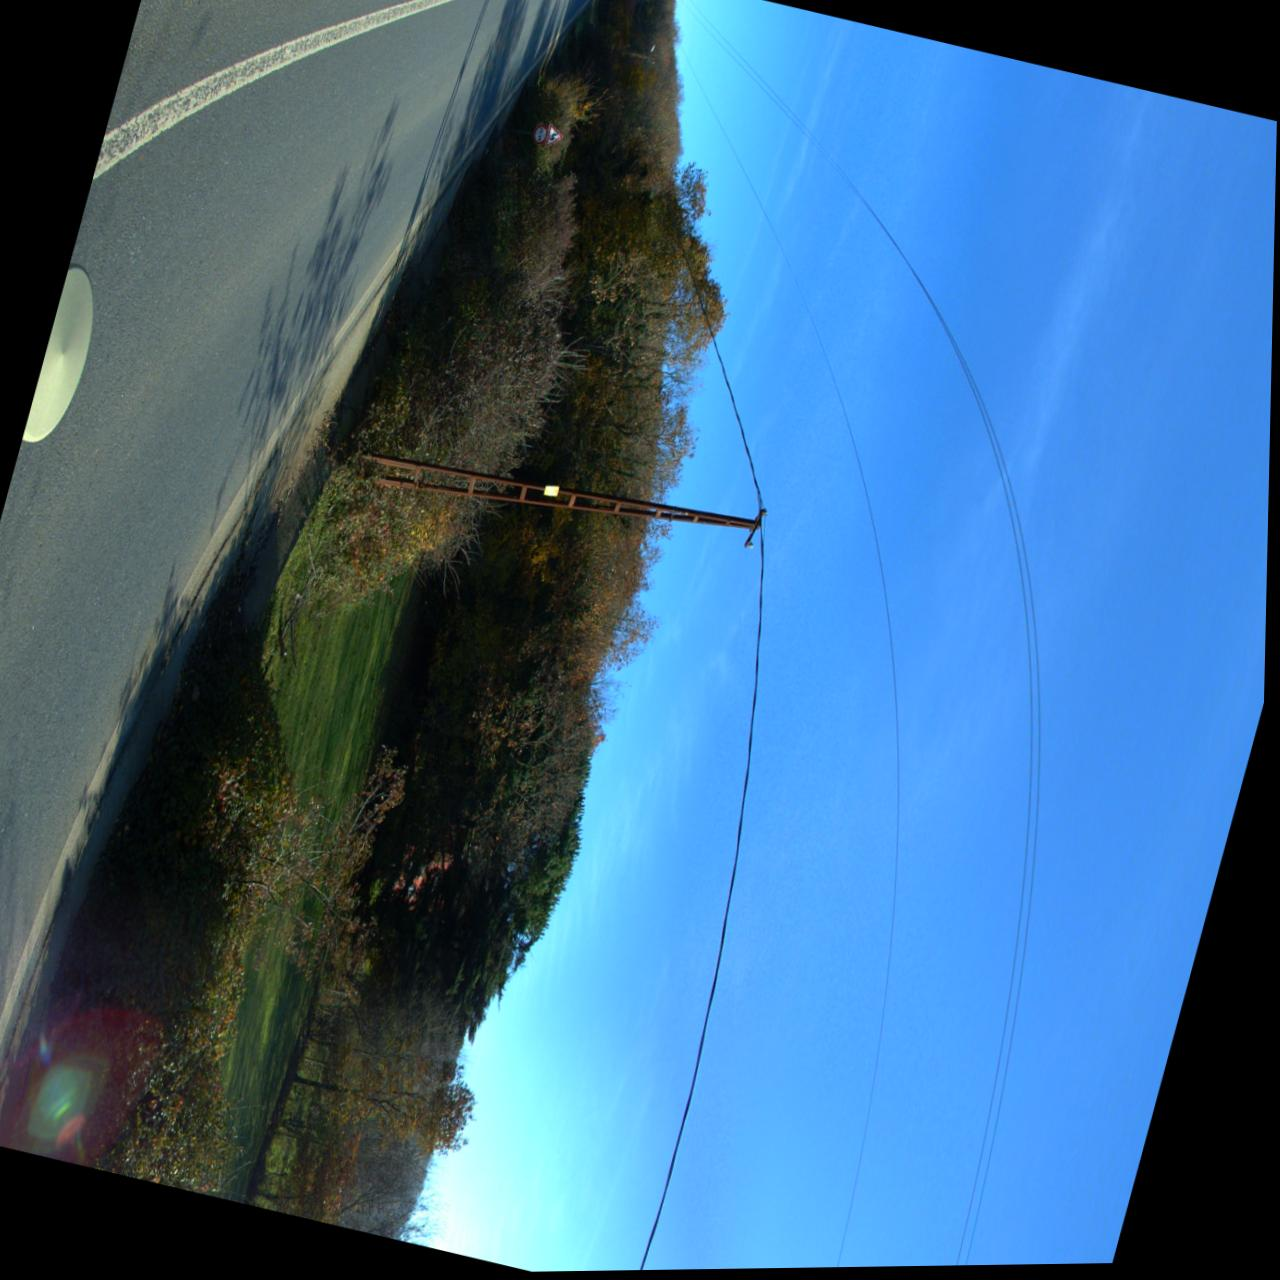Utility Pole Information Plate: (544, 486, 561, 497)
